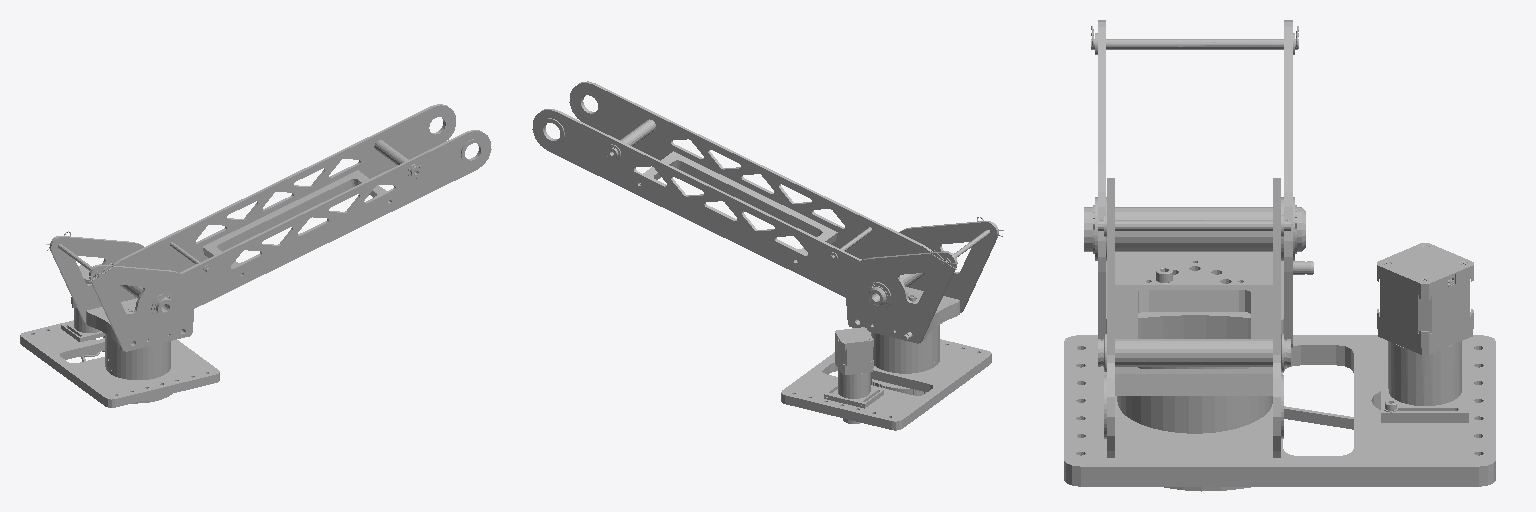
URDF robot description (rmm):
<?xml version="1.0" encoding="utf-8"?>
<!-- This URDF was automatically created by SolidWorks to URDF Exporter! Originally created by [author] ([email redacted]) 
     Commit Version: 1.6.0-4-g7f85cfe  Build Version: 1.6.7995.38578
     For more information, please see http://wiki.ros.org/sw_urdf_exporter -->
<robot
  name="rmm">
<link name="base_footprint">
    <visual>
        <origin xyz="0 0 0" rpy="0 0 0" />
        <geometry>
            <box size="0.001 0.001 0.001" />
        </geometry>
    </visual>
    <collision>
	<origin xyz="0 0 0" rpy="0 0 0"/>
	<geometry>
	    <box size="0.001 0.001 0.001"/>
	</geometry>
    </collision>
</link>

<joint name="base_footprint_joint" type="fixed">
    <origin xyz="0 0 0" rpy="0 0 0" />
    <parent link="base_footprint"/>
    <child link="L1" />
</joint>
  <link
    name="L1">
    <inertial>
      <origin
        xyz="1.46240415435095E-05 0.0626523408176193 0.0183572839444473"
        rpy="0 0 0" />
      <mass
        value="2.934566665164" />
      <inertia
        ixx="0.00807653689773365"
        ixy="-1.02570316823648E-07"
        ixz="-4.44167161068851E-08"
        iyy="0.00485832414061642"
        iyz="-7.7701192203099E-06"
        izz="0.0112514186928177" />
    </inertial>
    <visual>
      <origin
        xyz="0 0 0"
        rpy="0 0 0" />
      <geometry>
        <mesh
          filename="package://uorover_arm/meshes/visual/L1.STL" />
      </geometry>
      <material
        name="">
        <color
          rgba="0.752941176470588 0.752941176470588 0.752941176470588 1" />
      </material>
    </visual>
    <collision>
      <origin
        xyz="0 0 0"
        rpy="0 0 0" />
      <geometry>
        <mesh
          filename="package://uorover_arm/meshes/collision/L1.STL" />
      </geometry>
    </collision>
  </link>
  <link
    name="L2">
    <inertial>
      <origin
        xyz="-0.00368694035818651 -3.21494672345761E-05 0.0956990751549506"
        rpy="0 0 0" />
      <mass
        value="1.18613336880623" />
      <inertia
        ixx="0.0014201652113015"
        ixy="2.76657887443281E-11"
        ixz="0.000221872575909511"
        iyy="0.00150405295307427"
        iyz="-1.28741499566648E-10"
        izz="0.00193692878914472" />
    </inertial>
    <visual>
      <origin
        xyz="0 0 0"
        rpy="0 0 0" />
      <geometry>
        <mesh
          filename="package://uorover_arm/meshes/visual/L2.STL" />
      </geometry>
      <material
        name="">
        <color
          rgba="0.752941176470588 0.752941176470588 0.752941176470588 1" />
      </material>
    </visual>
    <collision>
      <origin
        xyz="0 0 0"
        rpy="0 0 0" />
      <geometry>
        <mesh
          filename="package://uorover_arm/meshes/collision/L2.STL" />
      </geometry>
    </collision>
  </link>
  <joint
    name="q1"
    type="revolute">
    <origin
      xyz="0 0 0"
      rpy="0 0 0" />
    <parent
      link="L1" />
    <child
      link="L2" />
    <axis
      xyz="0 0 1" />
    <limit
      lower="-3.8785"
      upper="0.7624"
      effort="50.0"
      velocity="2.0" />
  </joint>
  <link
    name="L3">
    <inertial>
      <origin
        xyz="0.251575528519281 -0.00331808327790925 0.000548399832373654"
        rpy="0 0 0" />
      <mass
        value="1.07194618957619" />
      <inertia
        ixx="0.000661948351652191"
        ixy="5.98822820971425E-06"
        ixz="-3.78845293388608E-13"
        iyy="0.0201253592251019"
        iyz="-4.95492265171914E-14"
        izz="0.0199394147192728" />
    </inertial>
    <visual>
      <origin
        xyz="0 0 0"
        rpy="0 0 0" />
      <geometry>
        <mesh
          filename="package://uorover_arm/meshes/visual/L3.STL" />
      </geometry>
      <material
        name="">
        <color
          rgba="0.752941176470588 0.752941176470588 0.752941176470588 1" />
      </material>
    </visual>
    <collision>
      <origin
        xyz="0 0 0"
        rpy="0 0 0" />
      <geometry>
        <mesh
          filename="package://uorover_arm/meshes/collision/L3.STL" />
      </geometry>
    </collision>
  </link>
  <joint
    name="q2"
    type="revolute">
    <origin
      xyz="0.0068581 0 0.111"
      rpy="1.5708 -0.23274 0" />
    <parent
      link="L2" />
    <child
      link="L3" />
    <axis
      xyz="0 0 1" />
    <limit
      lower="-0.0750"
      upper="1.3500"
      effort="50.0"
      velocity="2.0" />
  </joint>
  <link
    name="L4">
    <inertial>
      <origin
        xyz="0.0720260669864247 -1.66633176990061E-06 0.00985179408803023"
        rpy="0 0 0" />
      <mass
        value="1.66772751268548" />
      <inertia
        ixx="0.00114001304274005"
        ixy="4.73348234358579E-08"
        ixz="3.86287096525101E-07"
        iyy="0.0081020495705238"
        iyz="1.02110954258301E-08"
        izz="0.00755258229148096" />
    </inertial>
    <visual>
      <origin
        xyz="0 0 0"
        rpy="0 0 0" />
      <geometry>
        <mesh
          filename="package://uorover_arm/meshes/visual/L4.STL" />
      </geometry>
      <material
        name="">
        <color
          rgba="0.752941176470588 0.752941176470588 0.752941176470588 1" />
      </material>
    </visual>
    <collision>
      <origin
        xyz="0 0 0"
        rpy="0 0 0" />
      <geometry>
        <mesh
          filename="package://uorover_arm/meshes/collision/L4.STL" />
      </geometry>
    </collision>
  </link>
  <joint
    name="q3"
    type="revolute">
    <origin
      xyz="0.5 0 0.0010984"
      rpy="0 0 -0.62654" />
    <parent
      link="L3" />
    <child
      link="L4" />
    <axis
      xyz="0 0 -1" />
    <limit
      lower="0.000"
      upper="1.7500"
      effort="50.0"
      velocity="2.0" />
  </joint>
  <link
    name="L5">
    <inertial>
      <origin
        xyz="0.159052892911078 0.00432353745129826 0.000133318231799476"
        rpy="0 0 0" />
      <mass
        value="1.65698710373046" />
      <inertia
        ixx="0.000839185518117455"
        ixy="4.25551886425564E-08"
        ixz="-1.03290465827116E-06"
        iyy="0.000970248473334317"
        iyz="1.28170604083139E-07"
        izz="0.000954020274587562" />
    </inertial>
    <visual>
      <origin
        xyz="0 0 0"
        rpy="0 0 0" />
      <geometry>
        <mesh
          filename="package://uorover_arm/meshes/visual/L5.STL" />
      </geometry>
      <material
        name="">
        <color
          rgba="0.752941176470588 0.752941176470588 0.752941176470588 1" />
      </material>
    </visual>
    <collision>
      <origin
        xyz="0 0 0"
        rpy="0 0 0" />
      <geometry>
        <mesh
          filename="package://uorover_arm/meshes/collision/L5.STL" />
      </geometry>
    </collision>
  </link>
  <joint
    name="q4"
    type="revolute">
    <origin
      xyz="0.25 0 0.0014259"
      rpy="0 0 0" />
    <parent
      link="L4" />
    <child
      link="L5" />
    <axis
      xyz="0 0 -1" />
    <limit
      lower="-1.1500"
      upper="2.0000"
      effort="50.0"
      velocity="2.0" />
  </joint>
</robot>

--- What the picture shows (computed from the rendered views, not written in the file) ---
Views: 3 orthographic renders of the robot side by side, from view 1: azimuth 30°, elevation 25°; view 2: azimuth 150°, elevation 25°; view 3: azimuth 270°, elevation 25°.
Model rmm with 6 links and 5 joints (4 revolute, 1 fixed), rooted at base_footprint, posed all joints at 0.
Visible links, largest first — view 1: L3, L2, L1; view 2: L3, L1, L2; view 3: L1, L2, L3.
Link boxes in pixels (x1,y1,x2,y2): L3: [113, 104, 491, 308]; L2: [46, 231, 194, 351]; L1: [20, 265, 219, 407]; L3: [532, 81, 932, 297]; L1: [781, 325, 991, 430]; L2: [845, 217, 1003, 343]; L1: [1064, 243, 1495, 491]; L2: [1084, 20, 1313, 347]; L3: [1098, 178, 1290, 457].
Bounding box of the posed robot: 0.634 × 0.2468 × 0.2884 m (x, y, z).
Meshes: 5 distinct files referenced, 3 mesh visuals loaded (3 binary STL); not drawn: 2 (reference not matched to a file when rendering).